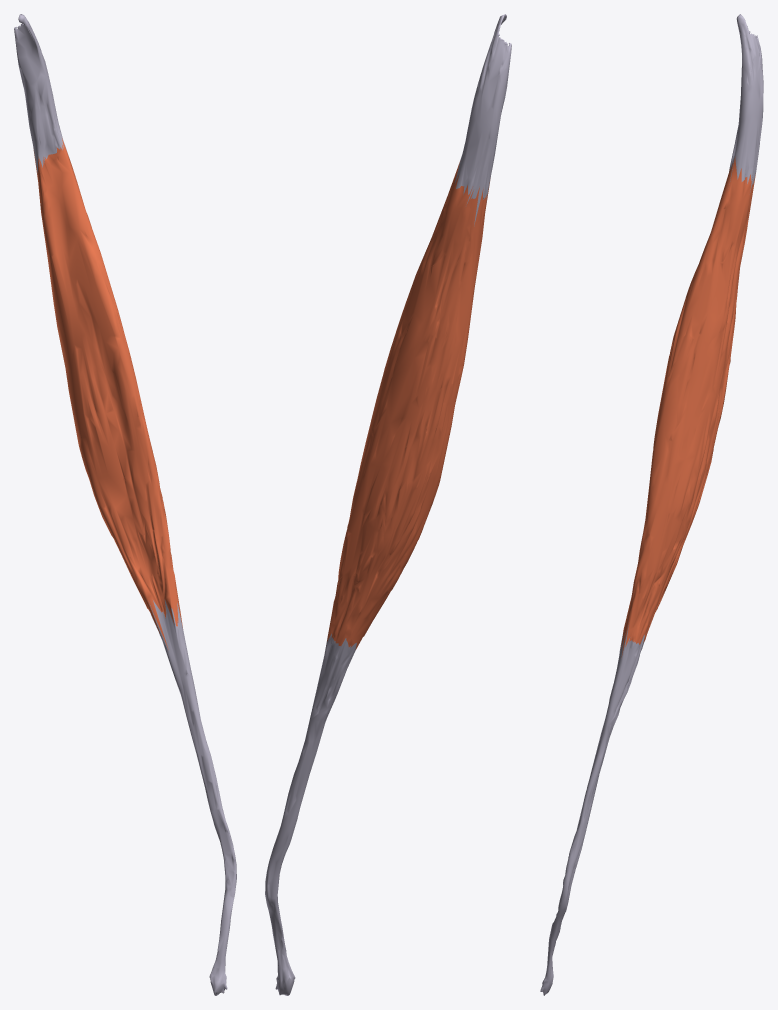
The model's file is Extensor_carpi_radialis_brevis.l_Generated_Mesh_From_X3D.976.glb.
3 renders of one model, left to right at view 1: azimuth 30°, elevation 25°; view 2: azimuth 210°, elevation 25°; view 3: azimuth 270°, elevation 25°, orthographic. The views are drawn at different scales.
Visible parts, largest first — view 1: Extensor_carpi_radialis_brevis.l_Generated_Mesh_From_X3D.976; view 2: Extensor_carpi_radialis_brevis.l_Generated_Mesh_From_X3D.976; view 3: Extensor_carpi_radialis_brevis.l_Generated_Mesh_From_X3D.976.
Part boxes in pixels (left/top/right/bottom): Extensor_carpi_radialis_brevis.l_Generated_Mesh_From_X3D.976: left=14, top=14, right=236, bottom=995; Extensor_carpi_radialis_brevis.l_Generated_Mesh_From_X3D.976: left=265, top=14, right=511, bottom=995; Extensor_carpi_radialis_brevis.l_Generated_Mesh_From_X3D.976: left=540, top=14, right=763, bottom=995.
Size of the model in its own units: 0.0458 by 0.3127 by 0.0678.
